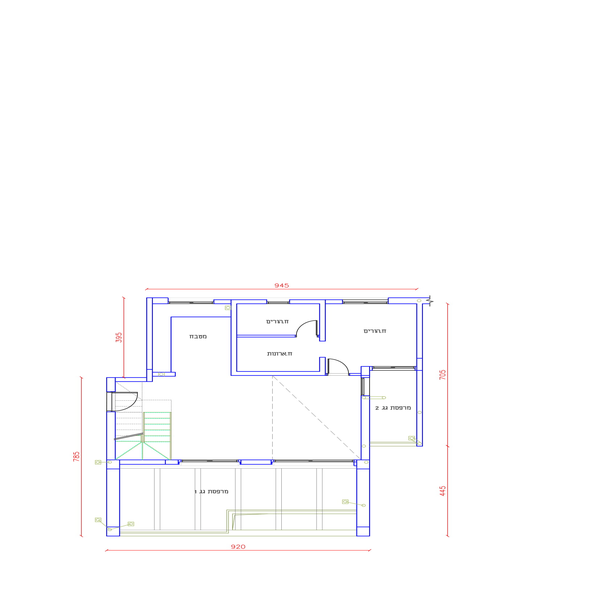door: (106, 393, 145, 415), (326, 354, 347, 381), (295, 320, 320, 339)
room: (109, 373, 374, 466), (324, 298, 425, 375), (230, 298, 328, 375)
wall: (107, 458, 122, 537), (416, 304, 423, 445), (357, 461, 370, 533), (229, 370, 322, 378), (229, 298, 238, 373), (147, 296, 154, 381)
window: (273, 459, 355, 467), (372, 363, 417, 374), (177, 458, 238, 466), (343, 295, 387, 306), (171, 298, 215, 307)
